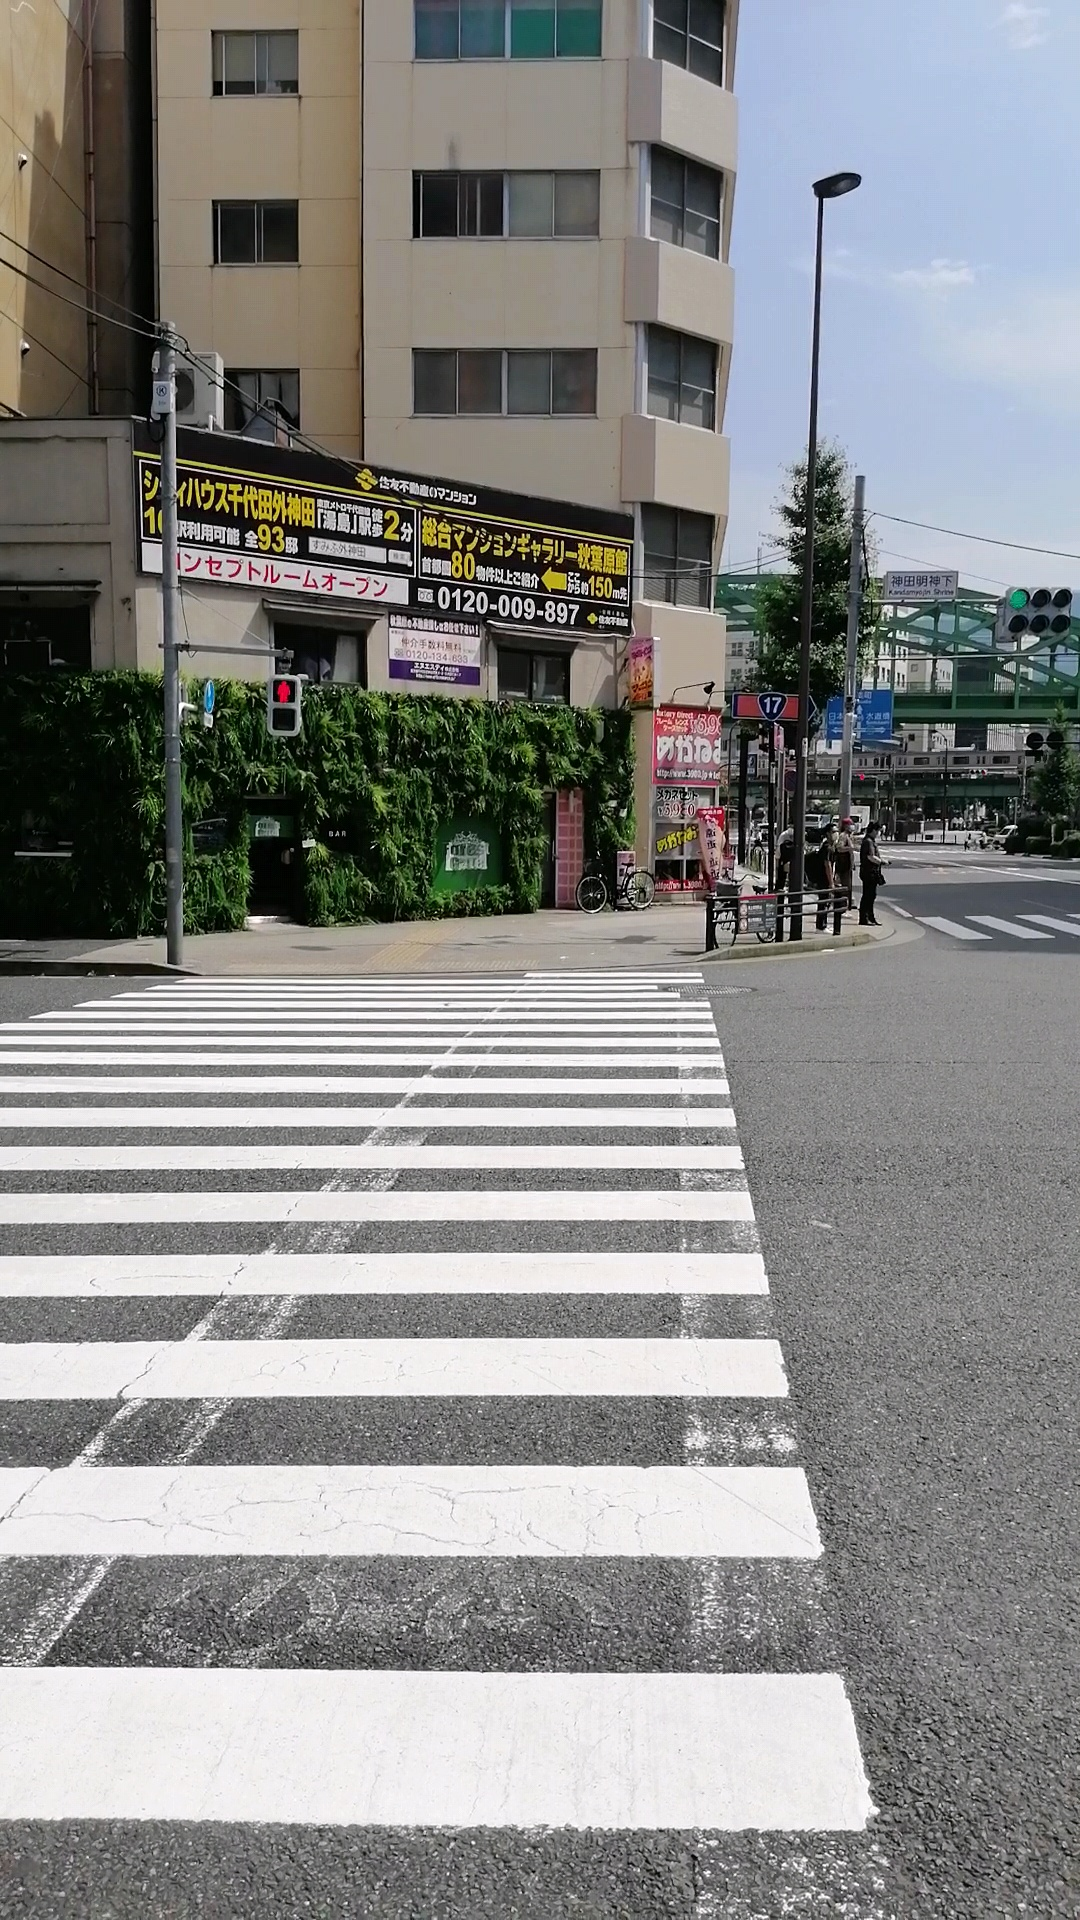red: (266, 673, 301, 735)
